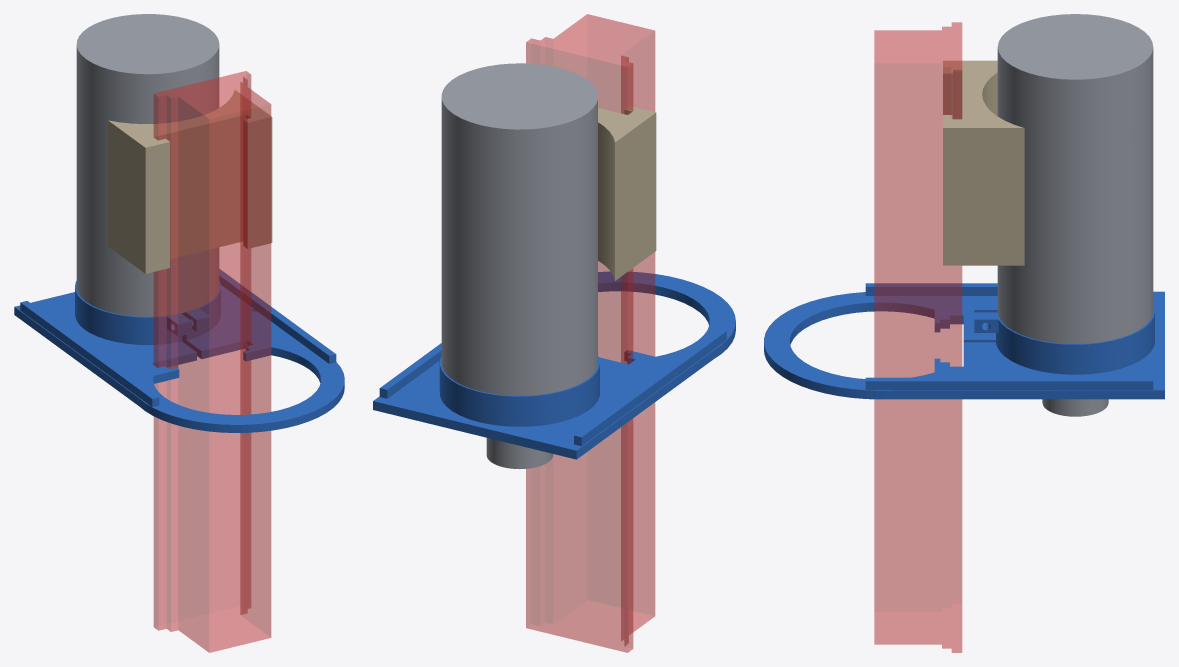
The model's file is dust-shoe.glb.
3 renders of one model, left to right at view 1: azimuth 30°, elevation 25°; view 2: azimuth 150°, elevation 25°; view 3: azimuth 270°, elevation 25°, orthographic. The views are drawn at different scales.
Parts seen in each view (by area): view 1: FantomeLaser, Broche, Pince, Semelle; view 2: Broche, FantomeLaser, Semelle, Pince; view 3: FantomeLaser, Broche, Semelle, Pince.
Part boxes in pixels (<box>): FantomeLaser: <box>153,71,271,652</box>; Broche: <box>76,14,219,369</box>; Pince: <box>108,90,272,273</box>; Semelle: <box>14,269,344,432</box>; Broche: <box>441,63,597,468</box>; FantomeLaser: <box>526,14,655,652</box>; Semelle: <box>373,271,735,459</box>; Pince: <box>598,106,656,280</box>; FantomeLaser: <box>874,22,962,652</box>; Broche: <box>997,14,1153,416</box>; Semelle: <box>764,283,1164,399</box>; Pince: <box>943,60,1024,265</box>.
Bounding box in the file's own units: 0.1206 × 0.33 × 0.2062.
